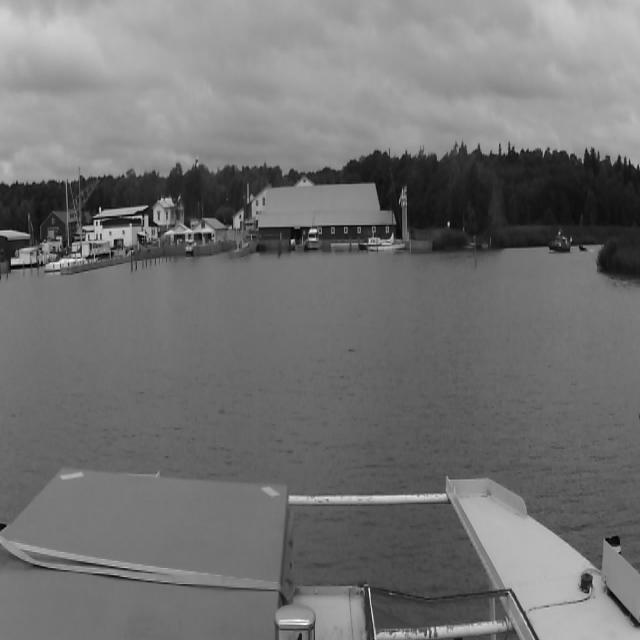buoy: (473, 235, 477, 268), (409, 234, 411, 254)
ship: (43, 176, 93, 276), (368, 148, 406, 252), (548, 228, 572, 254), (305, 228, 319, 250), (578, 244, 588, 252)
